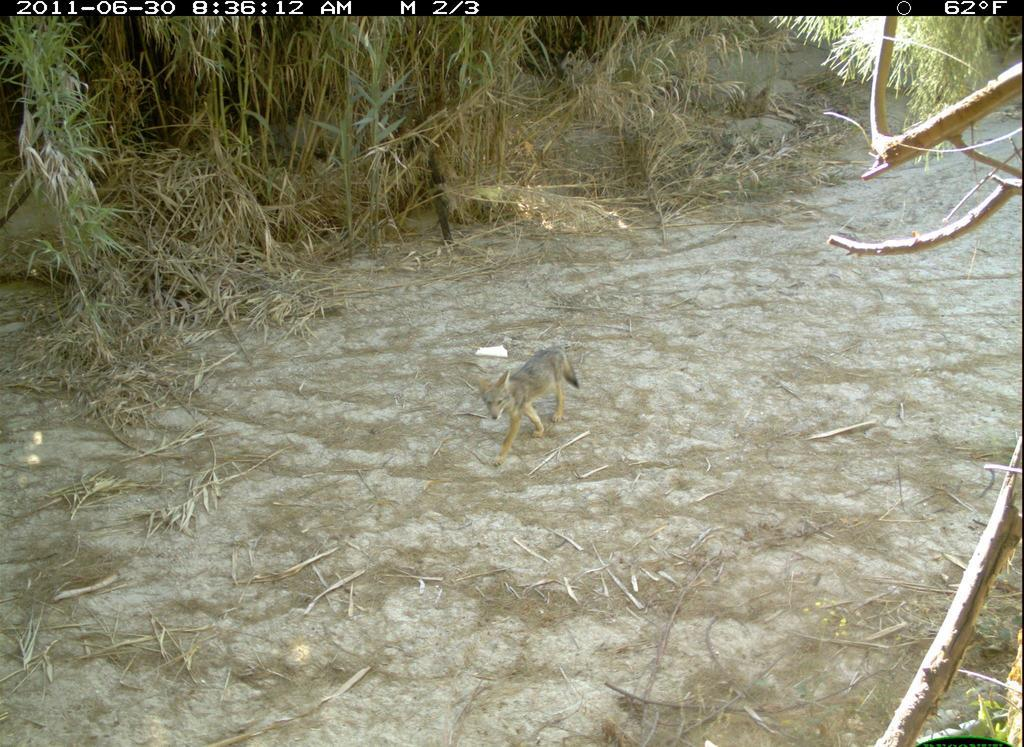coyote: (473, 342, 585, 475)
